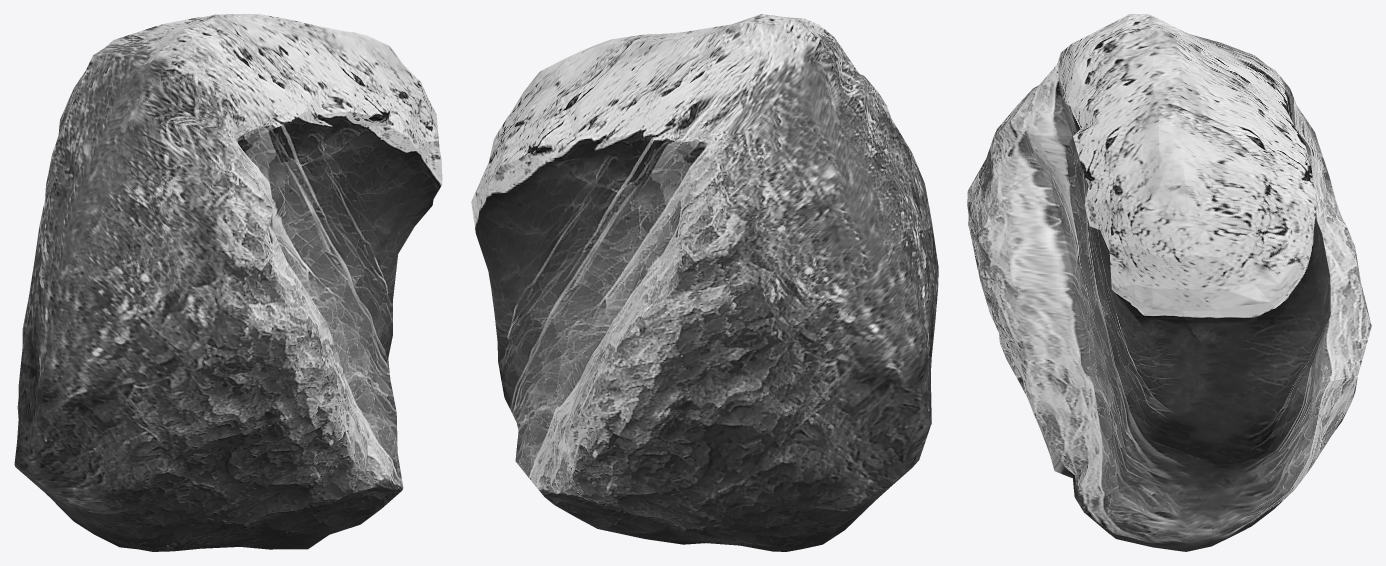
3 renders of one model, left to right at view 1: azimuth 30°, elevation 25°; view 2: azimuth 150°, elevation 25°; view 3: azimuth 270°, elevation 25°, orthographic. The views are drawn at different scales.
Visible parts, largest first — view 1: StoneB; view 2: StoneB; view 3: StoneB.
Part boxes in pixels (<box>): StoneB: <box>14,14,442,551</box>; StoneB: <box>471,14,938,551</box>; StoneB: <box>967,14,1371,551</box>.
Size of the model in its own units: 0.4854 by 0.6029 by 0.4657.
Materials: 1 (1 with a texture image).
